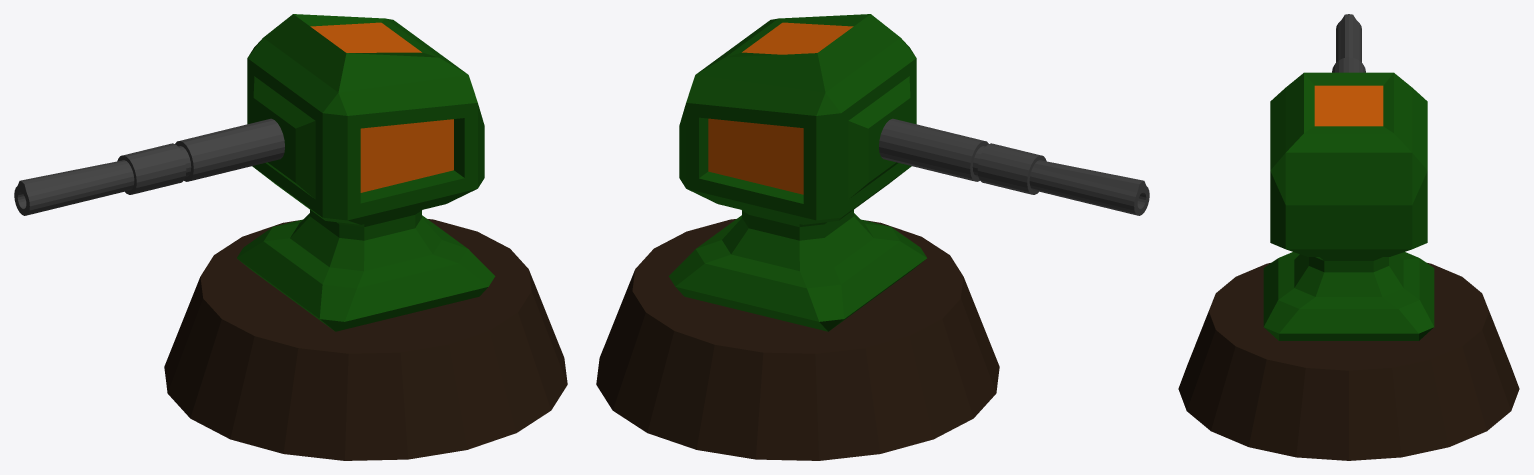
File: turret.fbx
3 views of the same model, side by side, from view 1: azimuth 30°, elevation 25°; view 2: azimuth 150°, elevation 25°; view 3: azimuth 270°, elevation 25° (orthographic). The views are drawn at different scales.
Parts seen in each view (by area): view 1: Turret, Base; view 2: Turret, Base; view 3: Turret, Base.
Boxes of the visible parts, box(x1,y1,x2,y2) form: Turret: box(14, 14, 495, 331); Base: box(164, 219, 567, 460); Turret: box(668, 14, 1149, 331); Base: box(596, 219, 999, 460); Turret: box(1263, 14, 1434, 340); Base: box(1178, 263, 1519, 460).
Bounding box in the file's own units: 296 × 192 × 200.
